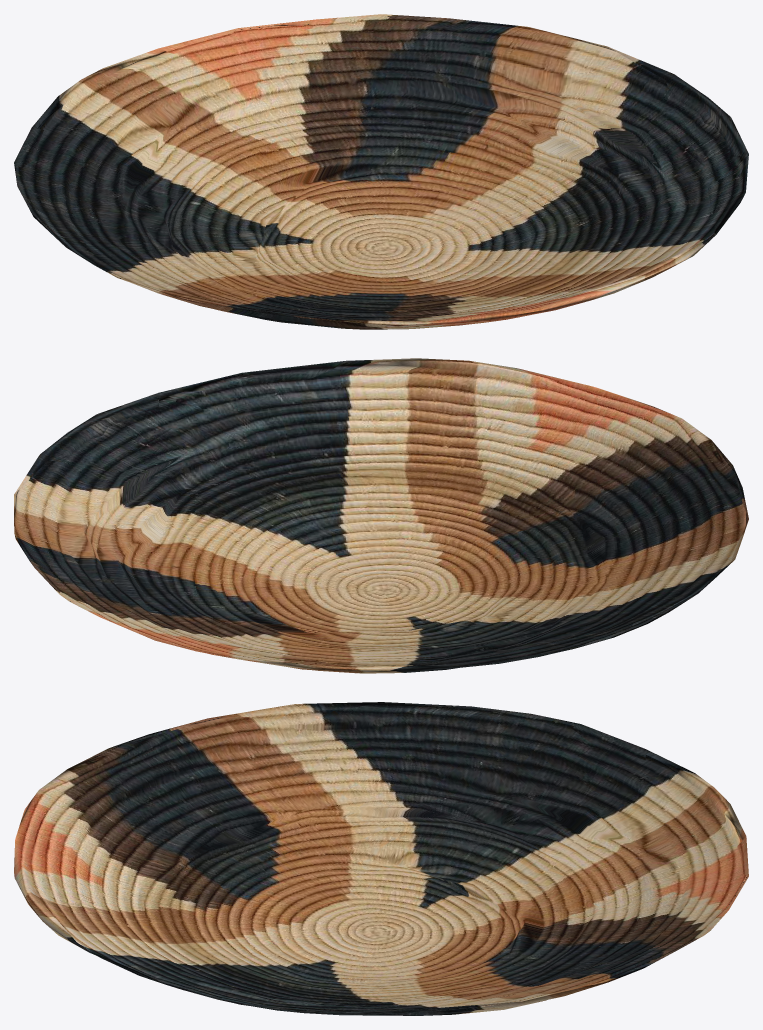
The model's file is Intersecting Earth Tone Stripes.fbx.
3 renders of one model, top to bottom at view 1: azimuth 30°, elevation 25°; view 2: azimuth 150°, elevation 25°; view 3: azimuth 270°, elevation 25°, orthographic.
Parts seen in each view (by area): view 1: Intersecting Earth Tone Stripes; view 2: Intersecting Earth Tone Stripes; view 3: Intersecting Earth Tone Stripes.
Boxes of the visible parts, left/top/right/bottom form: Intersecting Earth Tone Stripes: left=14, top=14, right=748, bottom=329; Intersecting Earth Tone Stripes: left=14, top=358, right=748, bottom=673; Intersecting Earth Tone Stripes: left=14, top=702, right=748, bottom=1015.
Size of the model in its own units: 37.72 by 4.85 by 37.6.
1 material, 1 textured.
